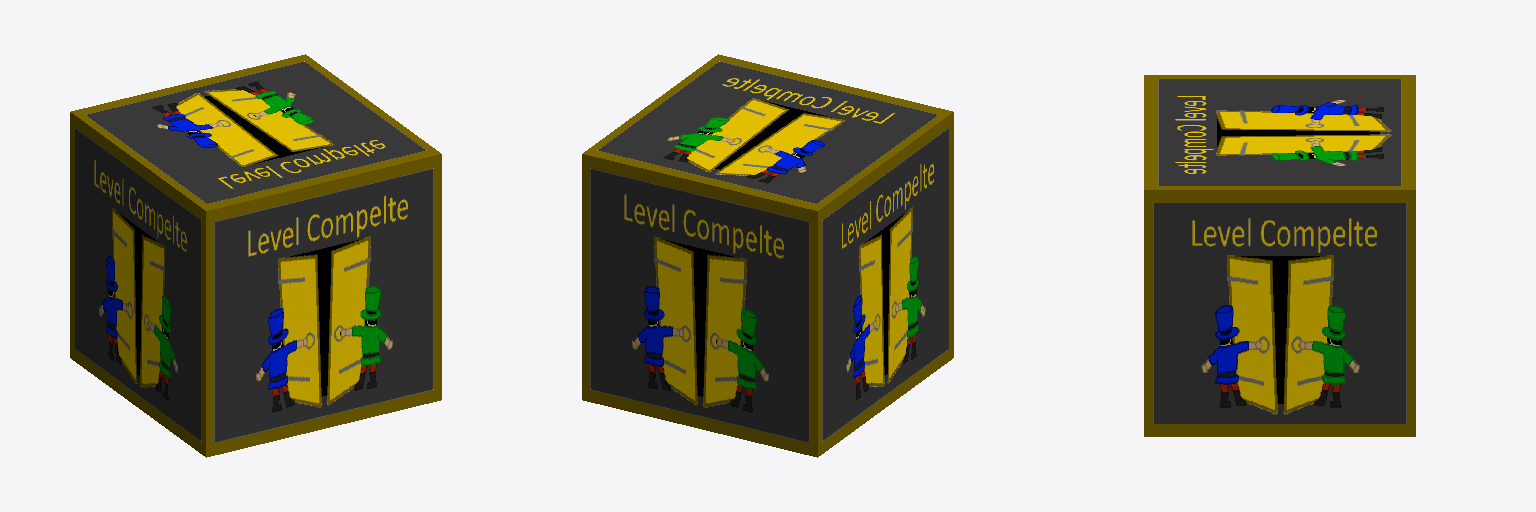
3 renders of one model, left to right at view 1: azimuth 30°, elevation 25°; view 2: azimuth 150°, elevation 25°; view 3: azimuth 270°, elevation 25°, orthographic.
Visible parts, largest first — view 1: Box001; view 2: Box001; view 3: Box001.
Part boxes in pixels (x1,y1,x2,y2): Box001: (70, 54, 441, 457); Box001: (582, 54, 953, 457); Box001: (1144, 75, 1415, 436).
Size of the model in its own units: 1 by 1 by 1.
1 materials, 1 textured.